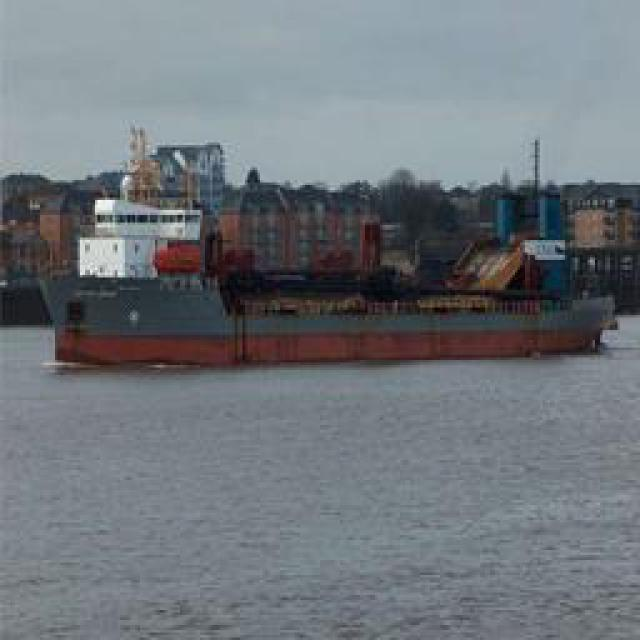Ship: (47, 290, 617, 368)
